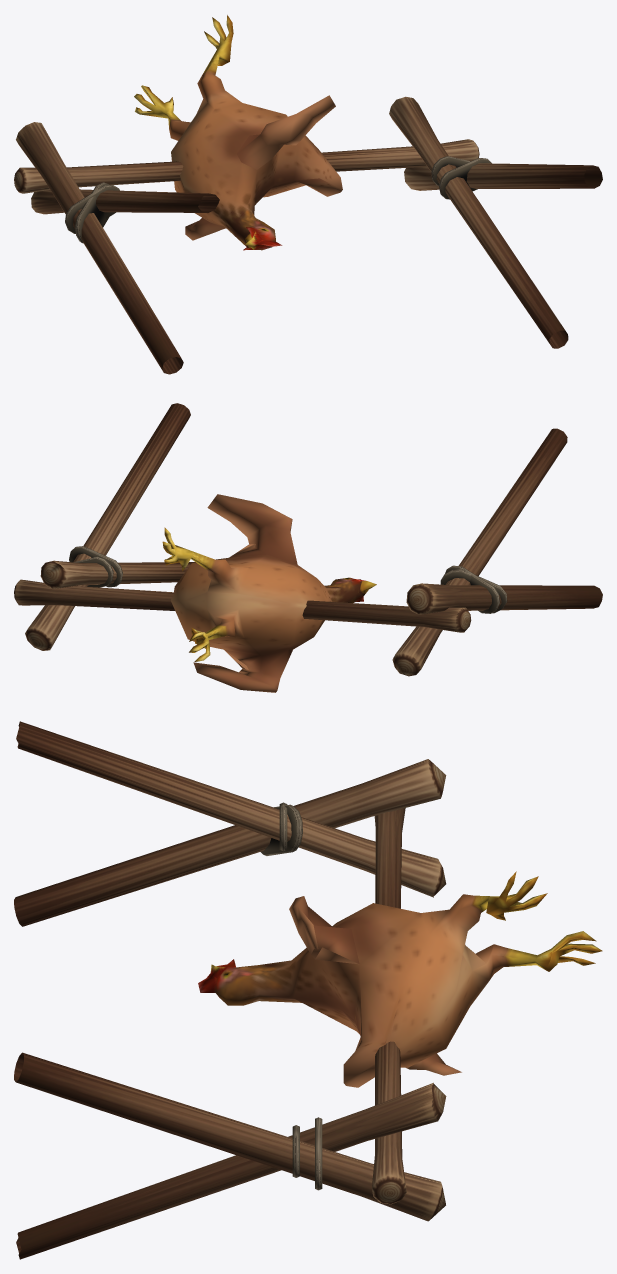
The model's file is Chicken_BBQ.FBX.
3 renders of one model, top to bottom at view 1: azimuth 30°, elevation 25°; view 2: azimuth 150°, elevation 25°; view 3: azimuth 270°, elevation 25°, orthographic. The views are drawn at different scales.
Parts seen in each view (by area): view 1: Chicken_BBQ; view 2: Chicken_BBQ; view 3: Chicken_BBQ.
Part boxes in pixels (x1,y1,x2,y2): Chicken_BBQ: [14, 15, 602, 374]; Chicken_BBQ: [14, 403, 602, 692]; Chicken_BBQ: [14, 721, 602, 1259].
Bounding box in the file's own units: 1.85 × 0.9231 × 1.57.
